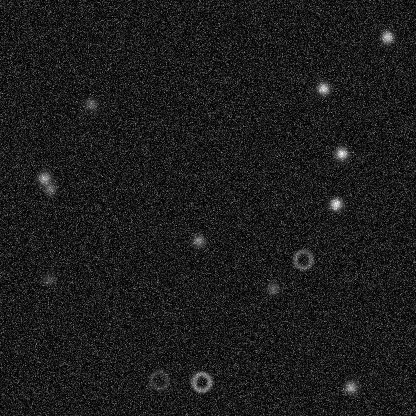Ring: (290, 247, 314, 271), (146, 368, 170, 392), (189, 369, 213, 393)
Spot: (40, 271, 56, 287), (379, 28, 395, 44), (315, 80, 331, 96), (327, 196, 343, 212), (42, 180, 58, 196), (342, 379, 358, 395), (36, 170, 52, 186), (333, 145, 349, 161), (190, 232, 206, 248), (82, 96, 98, 112), (264, 280, 280, 296)
